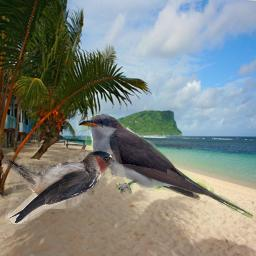Cuckoo: (76, 114, 253, 221)
Swallow: (5, 150, 119, 224)
